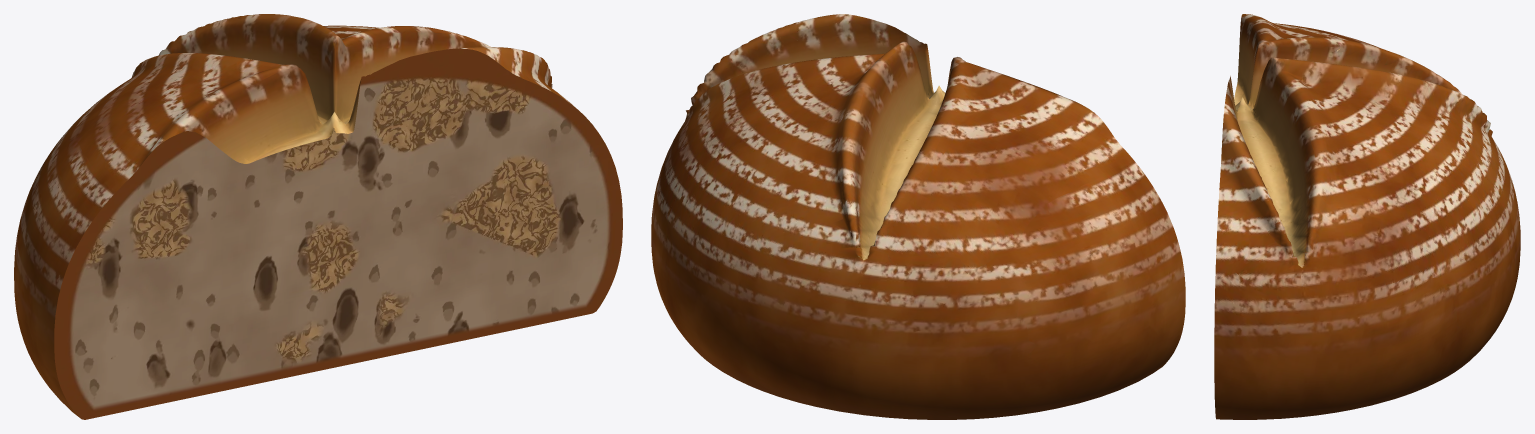
File: campagne--walnut-piece.glb
3 views of the same model, side by side, from view 1: azimuth 30°, elevation 25°; view 2: azimuth 150°, elevation 25°; view 3: azimuth 270°, elevation 25° (orthographic). The views are drawn at different scales.
Visible parts, largest first — view 1: campagne_walnut-piece; view 2: campagne_walnut-piece; view 3: campagne_walnut-piece.
Boxes of the visible parts, x1,y1,x2,y2 form: campagne_walnut-piece: [14, 14, 622, 419]; campagne_walnut-piece: [651, 14, 1185, 419]; campagne_walnut-piece: [1214, 14, 1520, 419].
Bounding box in the file's own units: 0.9987 × 0.53 × 0.5513.
1 material, 1 textured.
